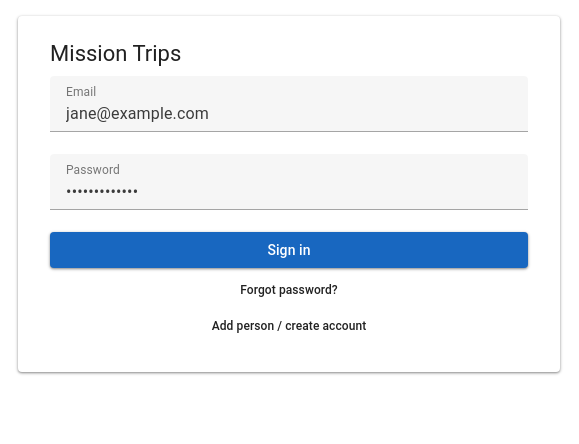
Scenario: Feature 1 — Login › US-1.2 — Sign in with email and password › User signs in with invalid password
The width and height of the screenshot is (579, 444).
Click the button "Sign in" at (289, 250), box [50,232,528,268]
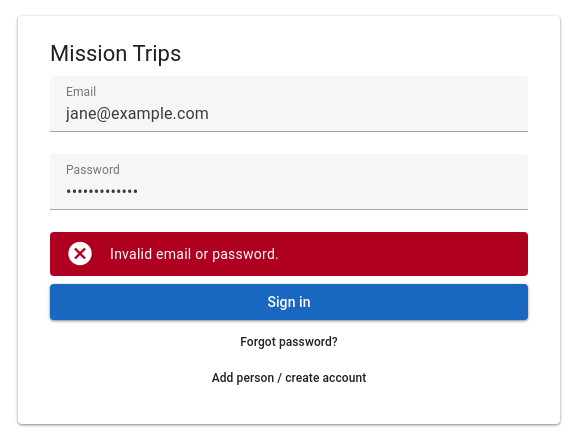
Result: the text "Invalid email or password." is shown at [110,246,279,262]
